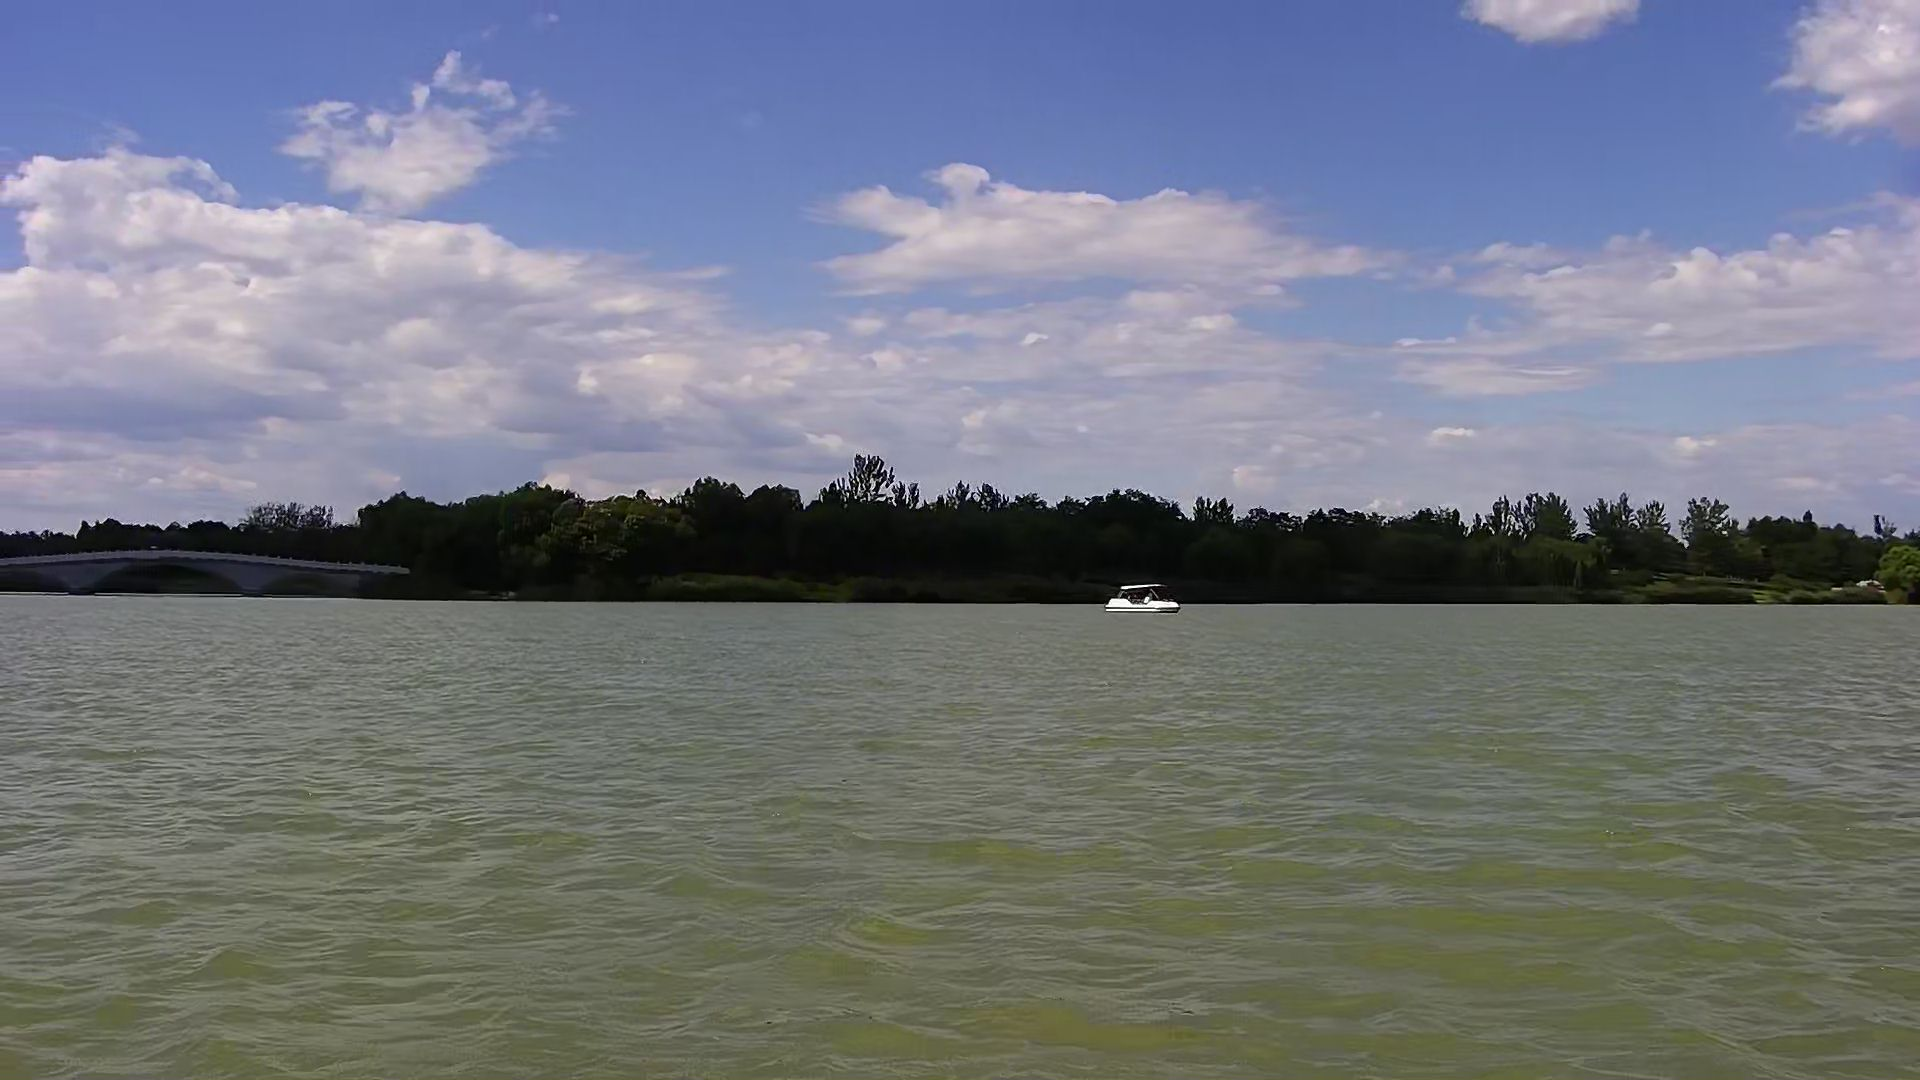boat: (1100, 575, 1183, 622)
bridge: (1, 542, 426, 599)
